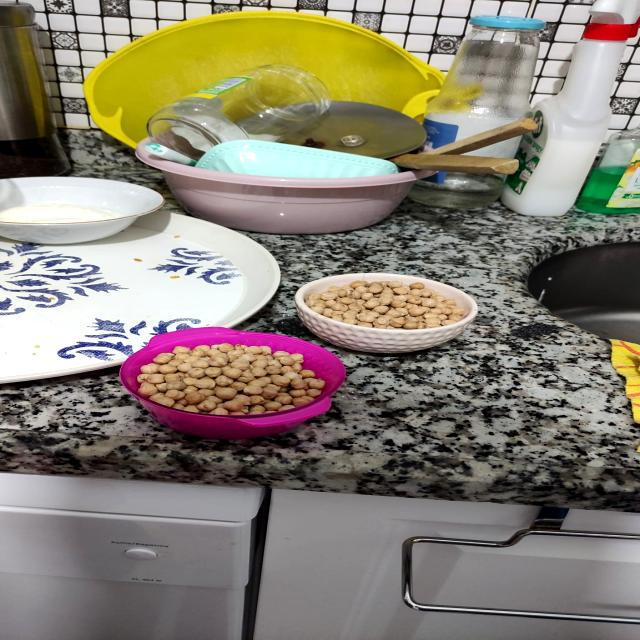chickpeas: (119, 326, 357, 439), (296, 274, 485, 352)
yogurt: (0, 171, 155, 246)
